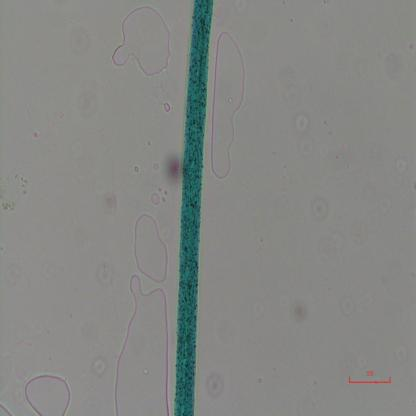Air bubble: (114, 274, 171, 416), (209, 31, 248, 182), (110, 5, 171, 78), (129, 211, 171, 284), (21, 372, 72, 414), (0, 400, 15, 415)
Background material: (309, 224, 357, 262), (291, 128, 328, 160), (67, 88, 97, 117), (92, 346, 114, 381), (387, 149, 414, 176), (162, 153, 184, 184), (146, 180, 169, 209), (307, 190, 327, 223), (96, 187, 120, 214), (14, 165, 35, 193), (291, 108, 314, 132), (207, 369, 224, 400), (0, 196, 18, 220), (162, 96, 173, 112), (298, 307, 310, 321), (151, 158, 159, 172), (132, 159, 139, 174), (34, 130, 40, 141)
Microfibre: (172, 1, 216, 415)
